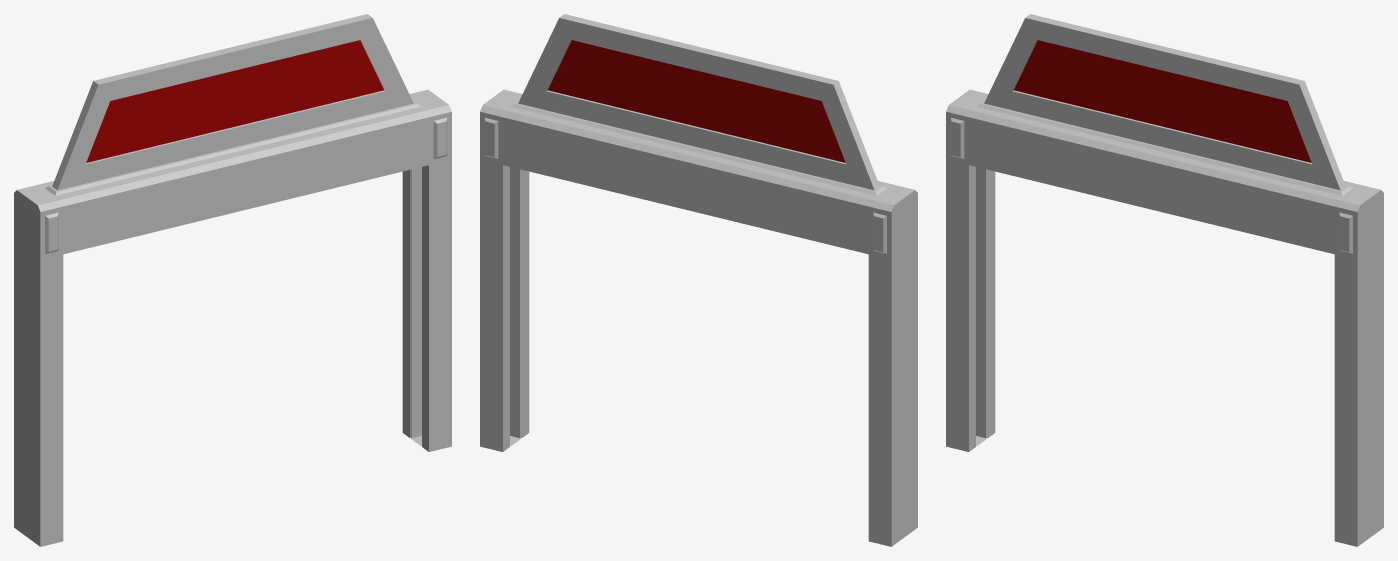
File: Door_Frame.fbx
3 renders of one model, left to right at view 1: azimuth 30°, elevation 25°; view 2: azimuth 150°, elevation 25°; view 3: azimuth 330°, elevation 25°, orthographic.
Parts seen in each view (by area): view 1: Door_Frame; view 2: Door_Frame; view 3: Door_Frame.
Part boxes in pixels (left/top/right/bottom): Door_Frame: left=14, top=14, right=451, bottom=546; Door_Frame: left=480, top=14, right=917, bottom=546; Door_Frame: left=946, top=14, right=1383, bottom=546.
Bounding box in the file's own units: 450 × 457 × 55.
